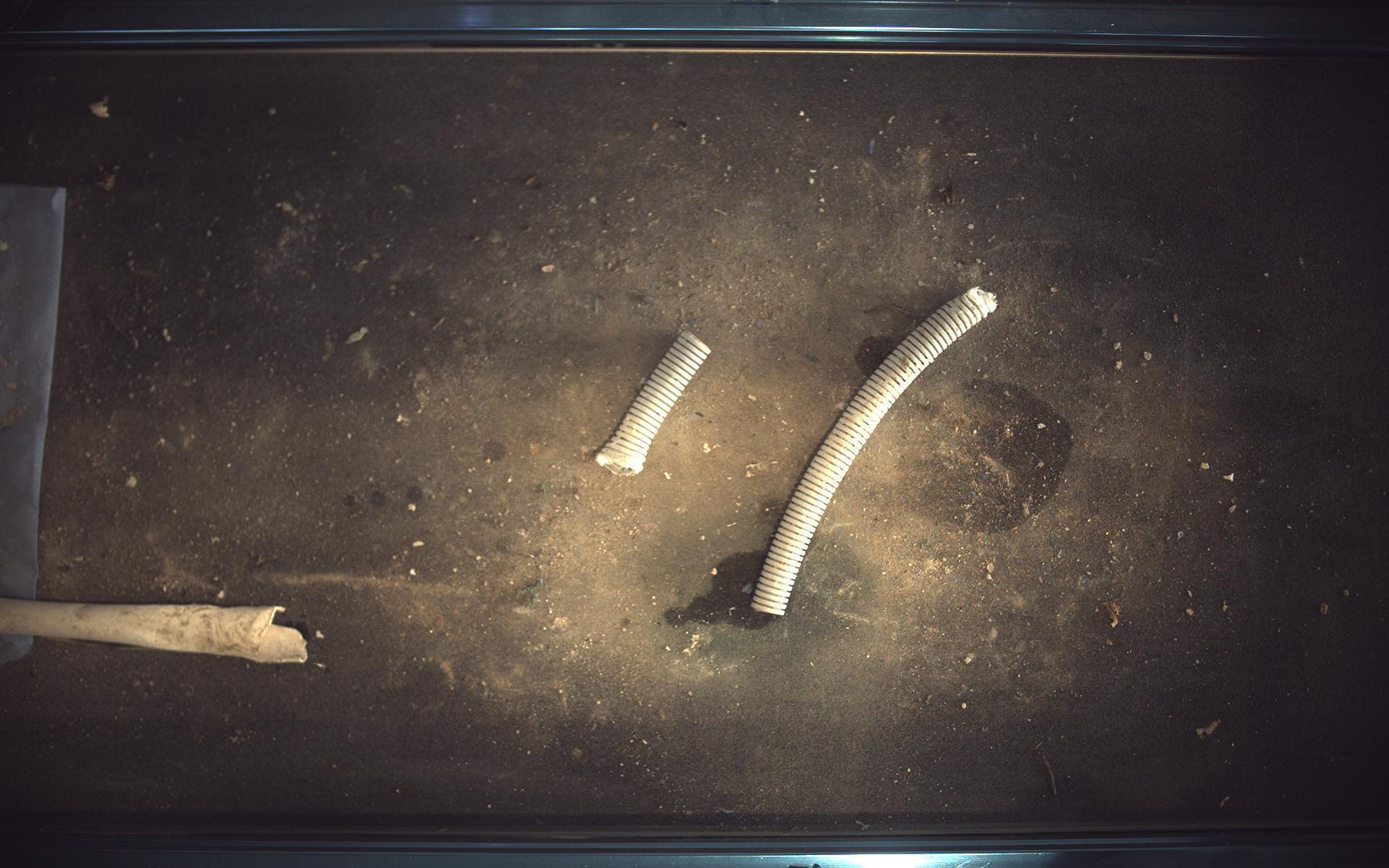pipes: (752, 286, 999, 616), (596, 330, 712, 476)
